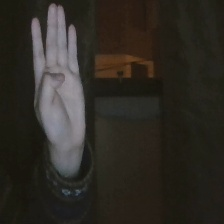B: (29, 2, 90, 152)
